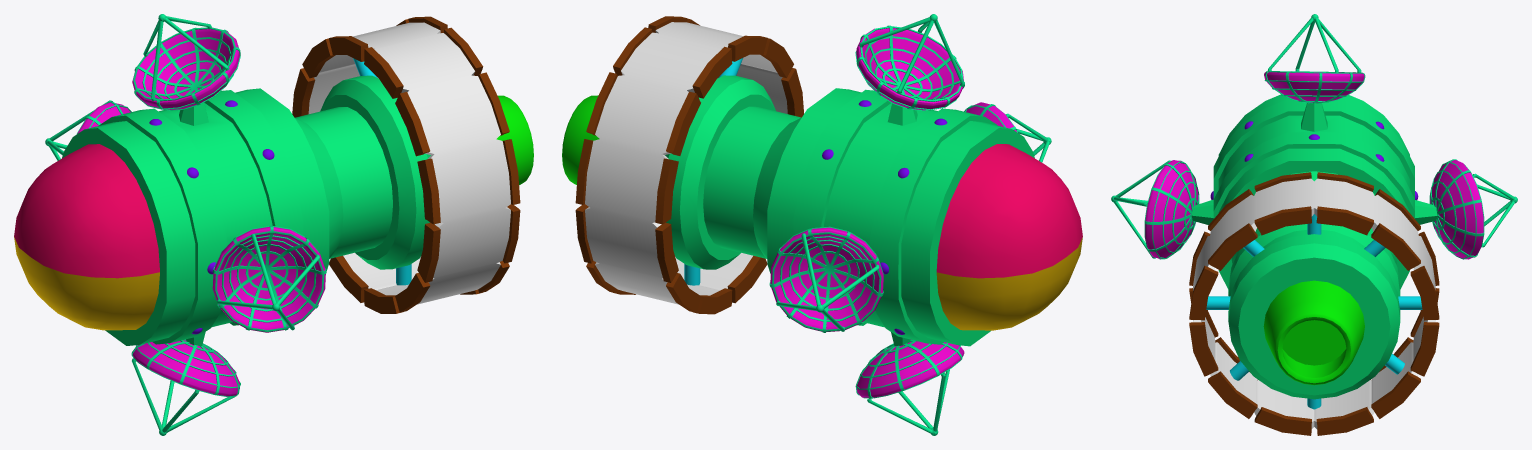
Rendered from Satellite.fbx.
The picture shows the model from 3 angles, left to right: view 1: azimuth 30°, elevation 25°; view 2: azimuth 150°, elevation 25°; view 3: azimuth 270°, elevation 25°; orthographic projection. The views are drawn at different scales.
Parts seen in each view (by area): view 1: Satellite; view 2: Satellite; view 3: Satellite.
Boxes of the visible parts, bbox=[...] form: Satellite: bbox=[14, 14, 533, 435]; Satellite: bbox=[562, 14, 1082, 435]; Satellite: bbox=[1111, 14, 1517, 435].
Size of the model in its own units: 710 by 592 by 588.
